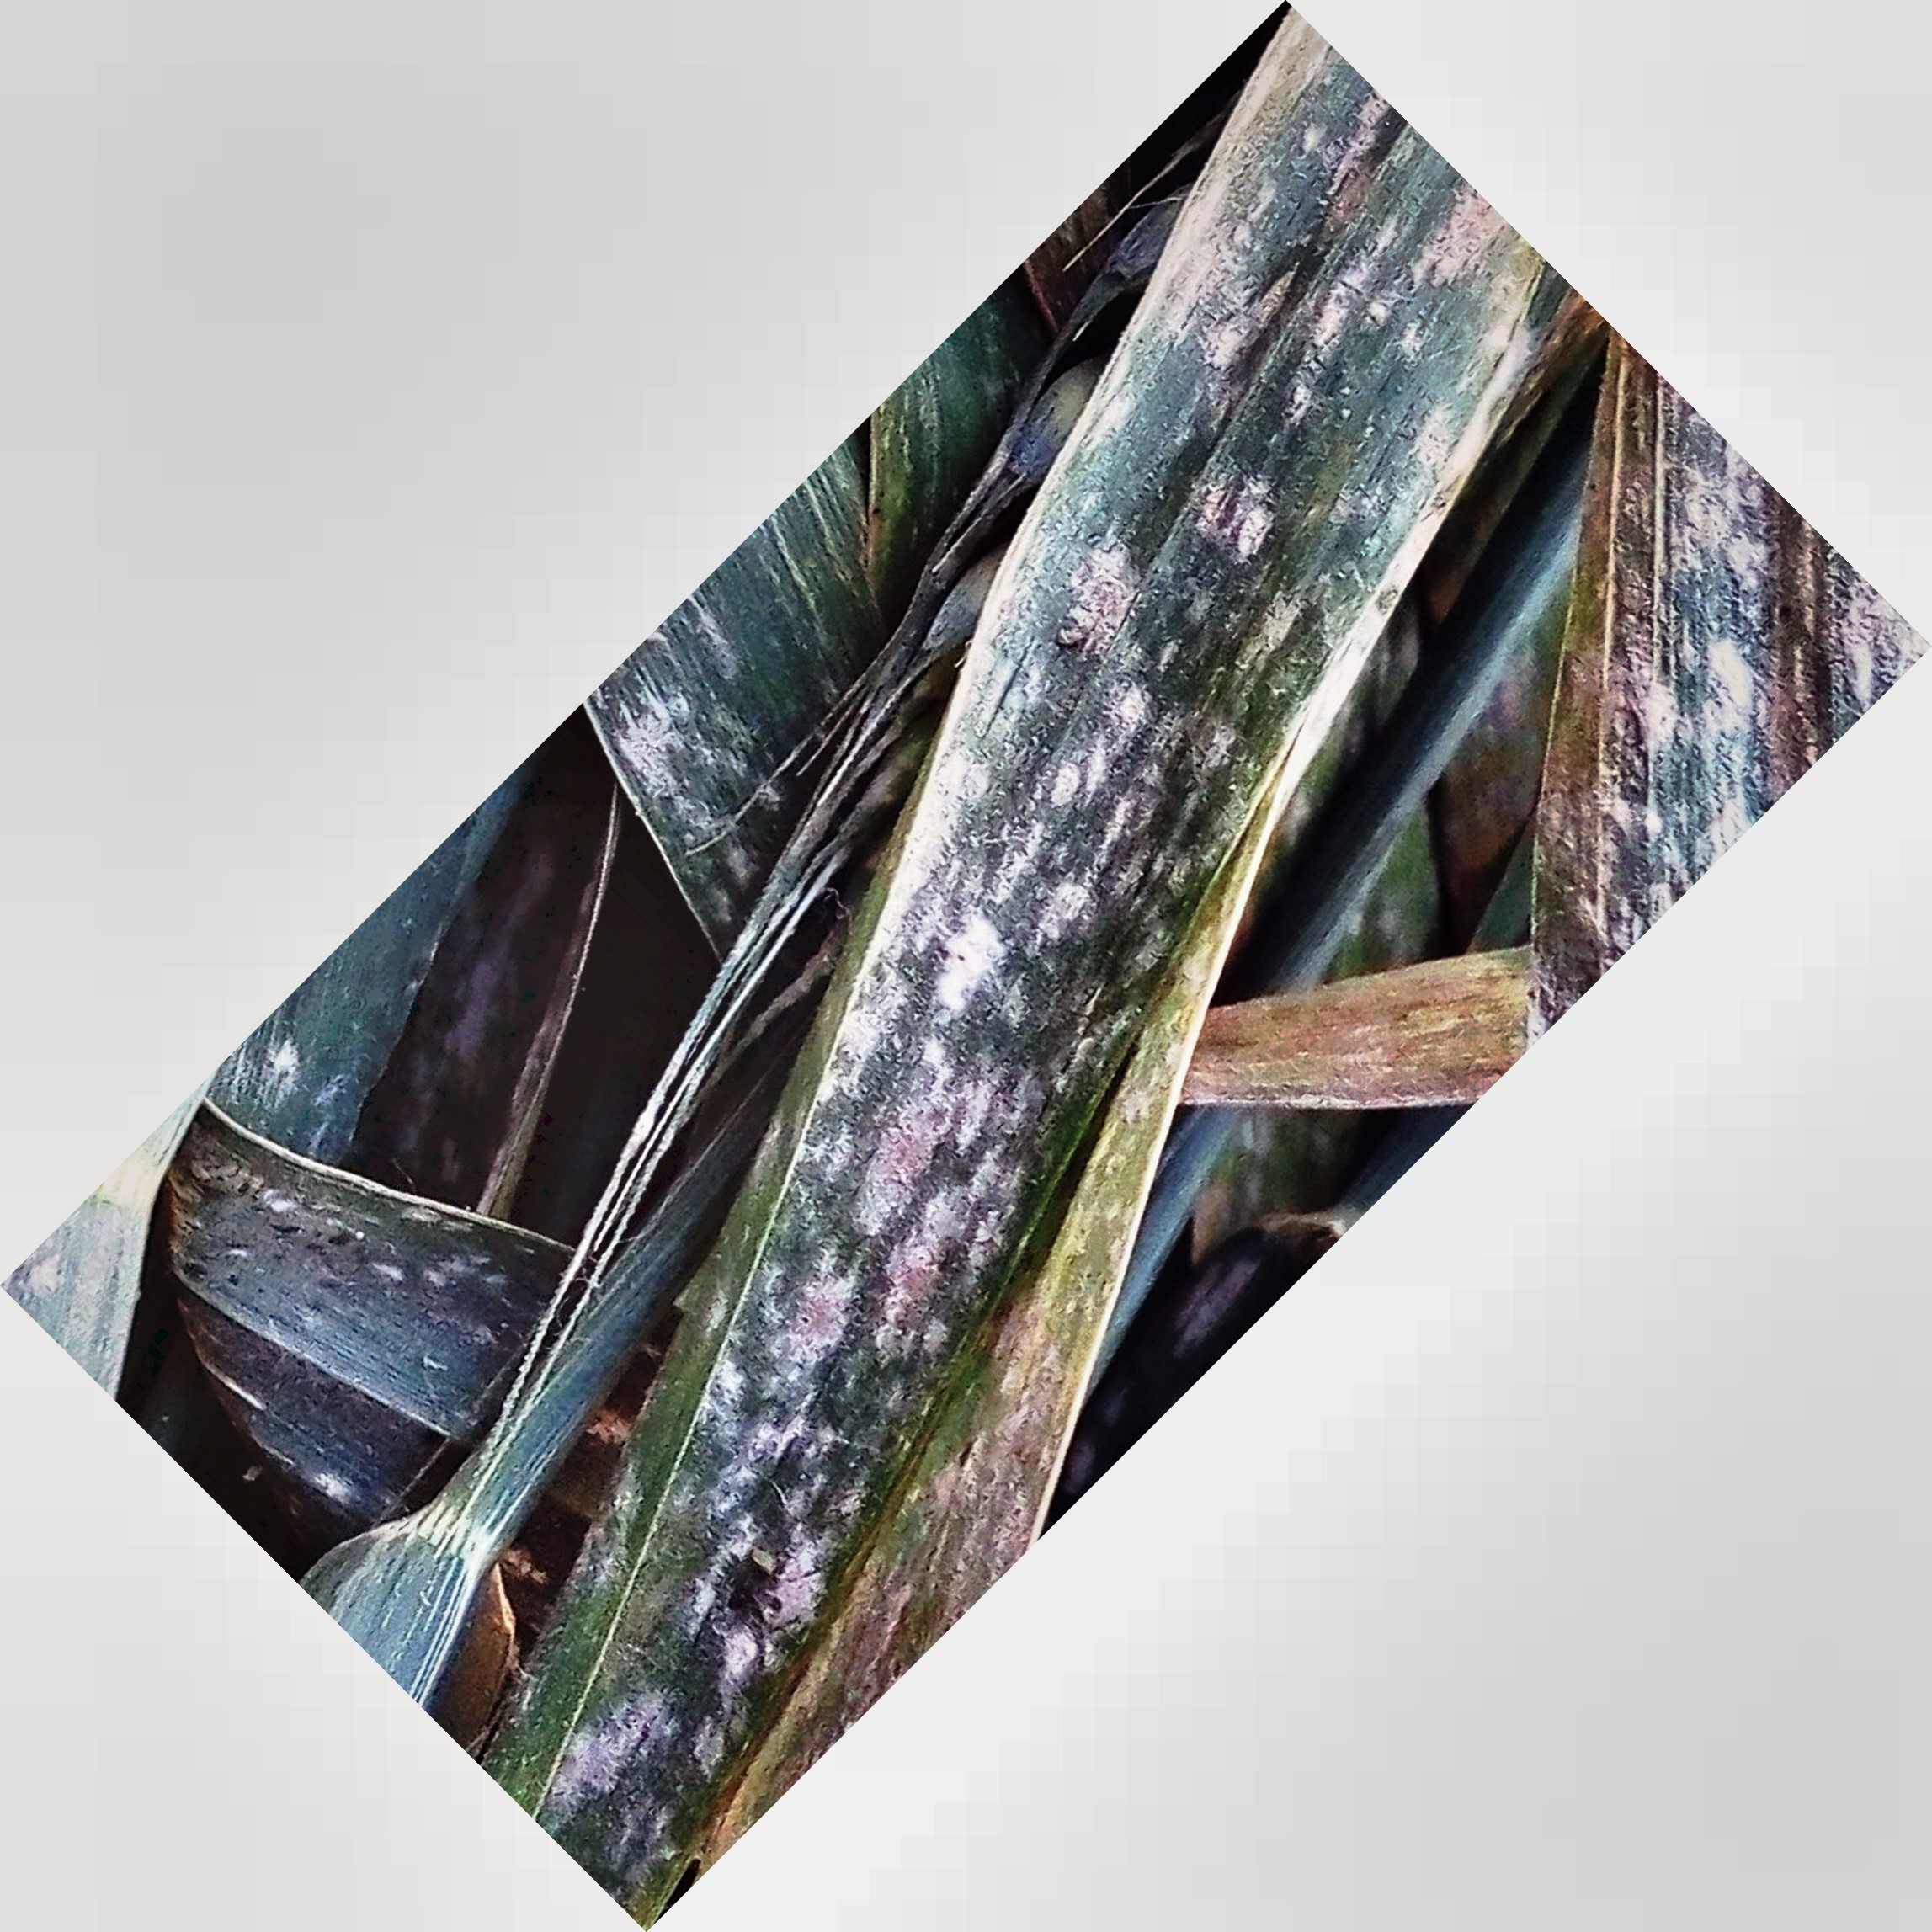Powdery Mildew: (681, 352, 1428, 1628)
